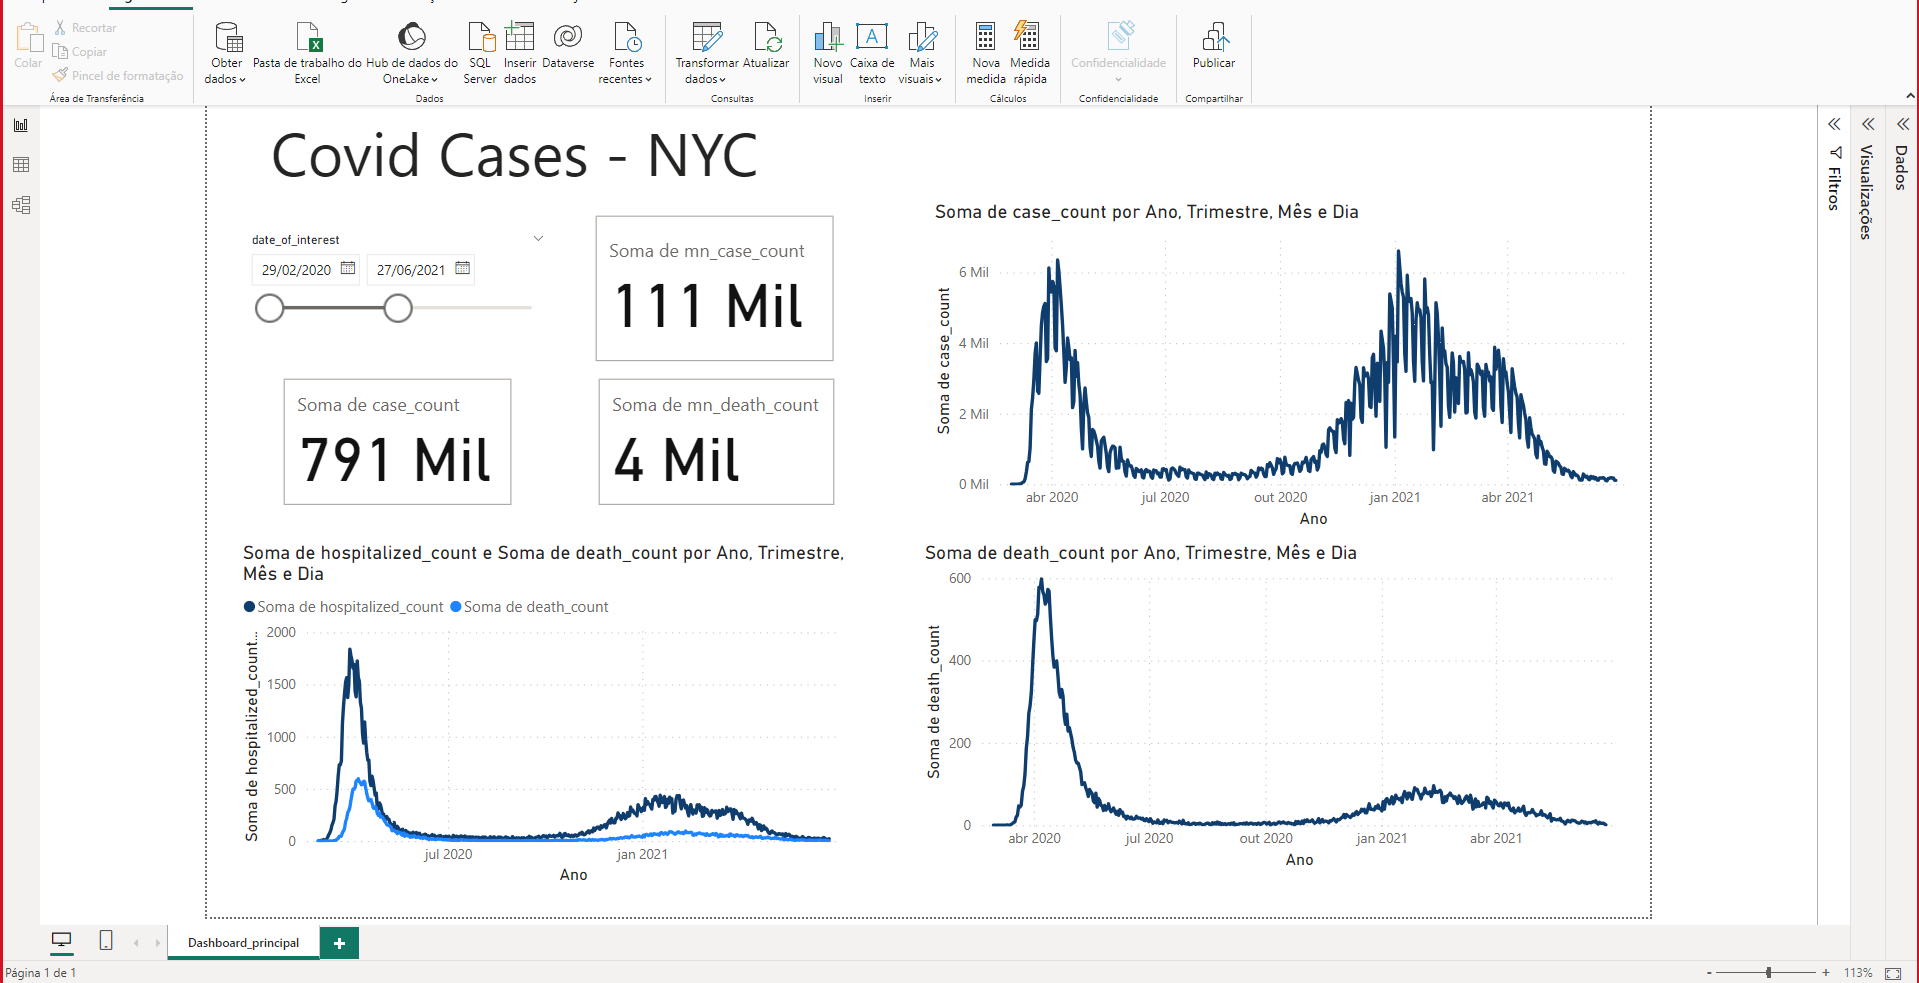

The page's visual inventory and layout, read from the dashboard file:
{"tool":"powerbi","page":{"name":"Dashboard_principal","canvas":[1280,720],"ordinal":0},"visuals":[{"type":"slicer","fields":{"Values":["dataframe.date_of_interest"]},"box":[26.6,108.2,284.6,104.6],"z":0},{"type":"lineChart","fields":{"Category":["dataframe.date_of_interest.Variation.Hierarquia de datas.Ano","dataframe.date_of_interest.Variation.Hierarquia de datas.Trimestre","dataframe.date_of_interest.Variation.Hierarquia de datas.Mês","dataframe.date_of_interest.Variation.Hierarquia de datas.Dia"],"Y":["Sum(dataframe.case_count)"]},"box":[640.2,84.2,637.5,295.3],"z":1000},{"type":"lineChart","fields":{"Category":["dataframe.date_of_interest.Variation.Hierarquia de datas.Ano","dataframe.date_of_interest.Variation.Hierarquia de datas.Trimestre","dataframe.date_of_interest.Variation.Hierarquia de datas.Mês","dataframe.date_of_interest.Variation.Hierarquia de datas.Dia"],"Y":["Sum(dataframe.death_count)"]},"box":[631.3,386.6,638.4,295.3],"z":2000},{"type":"cardVisual","fields":{"Data":["Sum(dataframe.case_count)"]},"box":[63,237.6,212.8,122.4],"z":3000},{"type":"lineChart","fields":{"Y":["Sum(dataframe.hospitalized_count)","Sum(dataframe.death_count)"],"Category":["dataframe.date_of_interest.Variation.Hierarquia de datas.Ano","dataframe.date_of_interest.Variation.Hierarquia de datas.Trimestre","dataframe.date_of_interest.Variation.Hierarquia de datas.Mês","dataframe.date_of_interest.Variation.Hierarquia de datas.Dia"]},"box":[26.6,386.6,554.2,309.5],"z":4000},{"type":"cardVisual","fields":{"Data":["Sum(dataframe.mn_case_count)"]},"box":[339.6,93.1,221.7,139.2],"z":5000},{"type":"cardVisual","fields":{"Data":["Sum(dataframe.mn_death_count)"]},"box":[342.3,237.6,219,122.4],"z":6000},{"type":"textbox","box":[51.4,0,464.6,84.2],"z":7000}]}

Visuals, with their boxes on the page's 1280x720 design canvas (x1, y1, x2, y2). These are canvas units, not pixel positions in the 1919x983 screenshot, which may show the page scaled, cropped or inside an application window:
slicer - dataframe.date_of_interest: [x1=27, y1=108, x2=311, y2=213]
lineChart - dataframe.date_of_interest.Variation.Hierarquia de datas.Ano x dataframe.date_of_interest.Variation.Hierarquia de datas.Trimestre: [x1=640, y1=84, x2=1278, y2=380]
lineChart - dataframe.date_of_interest.Variation.Hierarquia de datas.Ano x dataframe.date_of_interest.Variation.Hierarquia de datas.Trimestre: [x1=631, y1=387, x2=1270, y2=682]
cardVisual - Sum(dataframe.case_count): [x1=63, y1=238, x2=276, y2=360]
lineChart - Sum(dataframe.hospitalized_count) x Sum(dataframe.death_count): [x1=27, y1=387, x2=581, y2=696]
cardVisual - Sum(dataframe.mn_case_count): [x1=340, y1=93, x2=561, y2=232]
cardVisual - Sum(dataframe.mn_death_count): [x1=342, y1=238, x2=561, y2=360]
textbox: [x1=51, y1=0, x2=516, y2=84]
